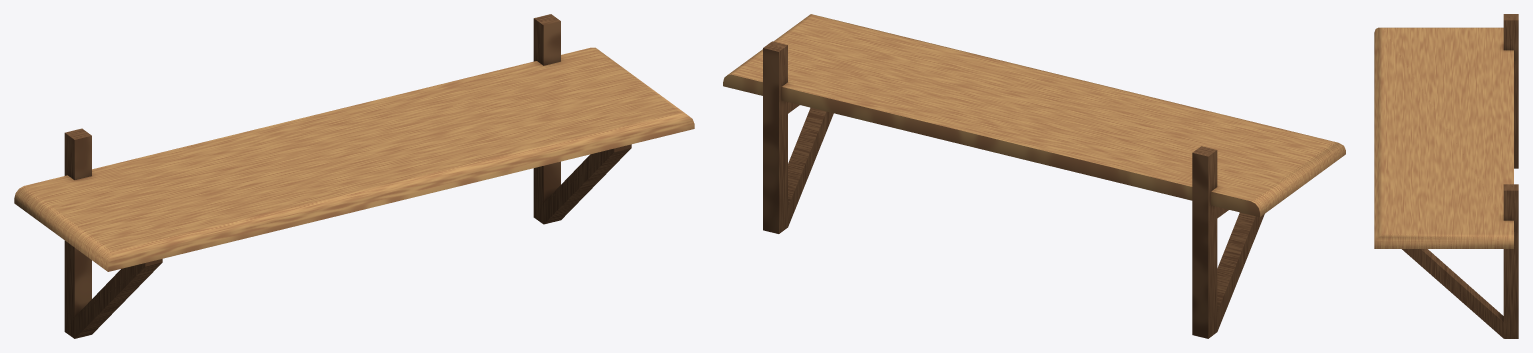
Rendered from repisa_model.glb.
3 renders of one model, left to right at view 1: azimuth 30°, elevation 25°; view 2: azimuth 150°, elevation 25°; view 3: azimuth 270°, elevation 25°, orthographic. The views are drawn at different scales.
Visible parts, largest first — view 1: table, support; view 2: table, support; view 3: table, support.
Part boxes in pixels (x1,y1,x2,y2): table: (14,47,694,271); support: (64,14,631,338); table: (723,14,1345,217); support: (763,41,1264,338); table: (1374,27,1513,248); support: (1402,14,1518,338).
Bounding box in the file's own units: 69.53 × 22.57 × 19.88.
1 material, 1 textured.
